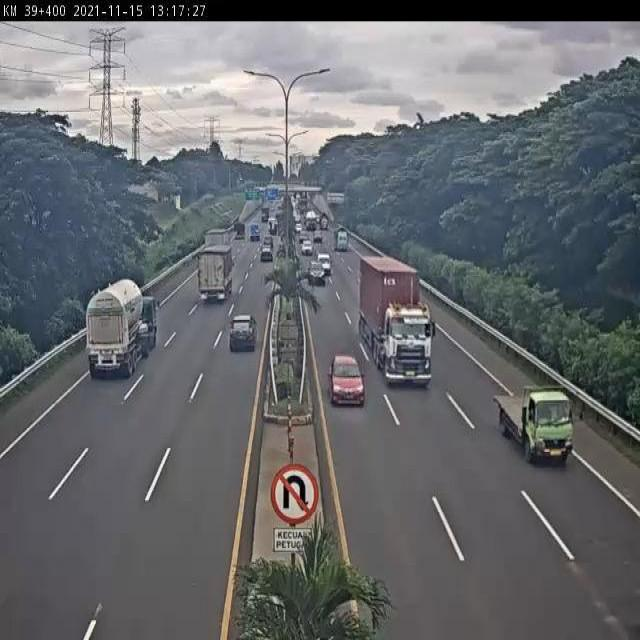bus-s-: (316, 251, 332, 276)
car: (327, 352, 366, 407), (229, 314, 258, 354), (307, 260, 327, 287)
truck-l-: (87, 278, 157, 378)
truck-m-: (201, 246, 236, 302)
truck-s-: (494, 382, 576, 470)
truck-xl-: (359, 258, 435, 390)
